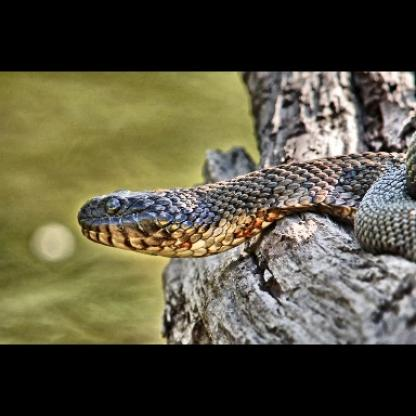Snake: (62, 138, 412, 278)
